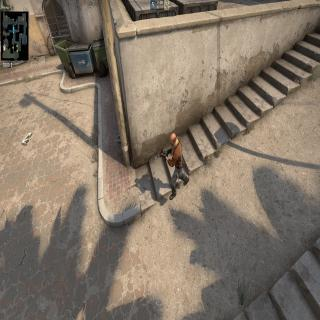T-Head: (170, 131, 177, 148)
